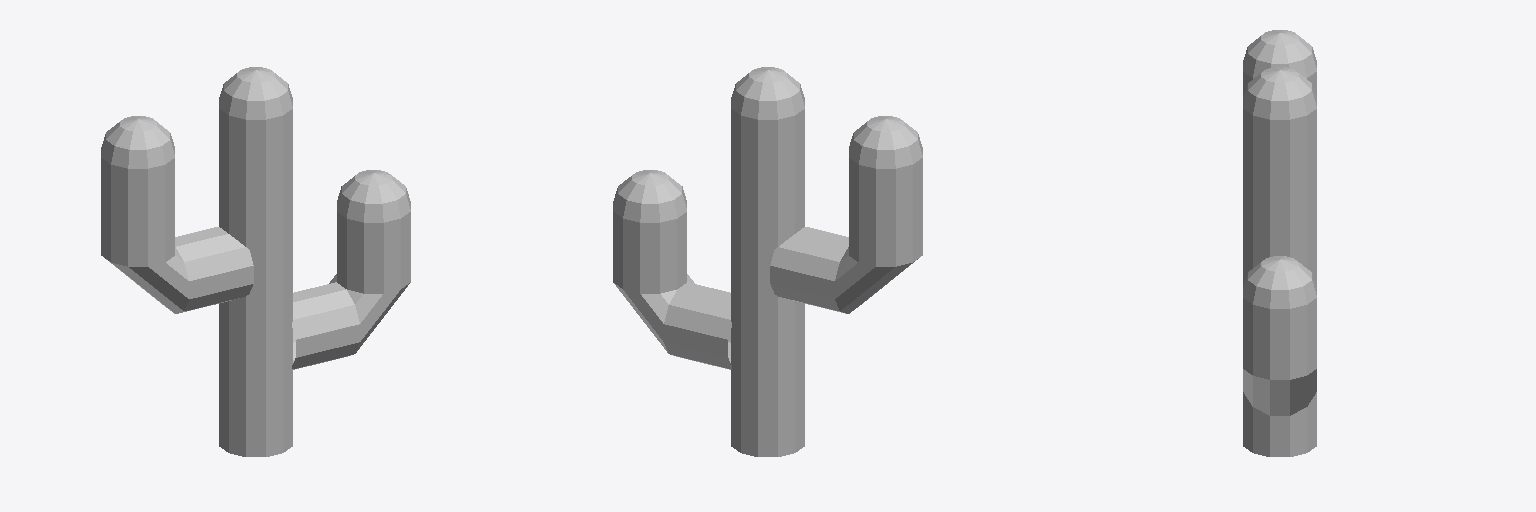
Rendered from cactus2.obj.
3 renders of one model, left to right at view 1: azimuth 30°, elevation 25°; view 2: azimuth 150°, elevation 25°; view 3: azimuth 270°, elevation 25°, orthographic.
Visible parts, largest first — view 1: cylinder, sphere; view 2: cylinder, sphere; view 3: cylinder, sphere.
Part boxes in pixels (x1,y1,x2,y2): cylinder: (101, 109, 410, 456); sphere: (101, 67, 410, 222); cylinder: (613, 109, 922, 456); sphere: (613, 67, 922, 222); cylinder: (1243, 72, 1316, 456); sphere: (1243, 30, 1316, 308).
Bounding box in the file's own units: 0.5813 × 0.6875 × 0.125.